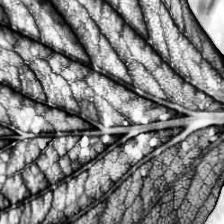Angular Leafspot: (0, 101, 224, 178)
